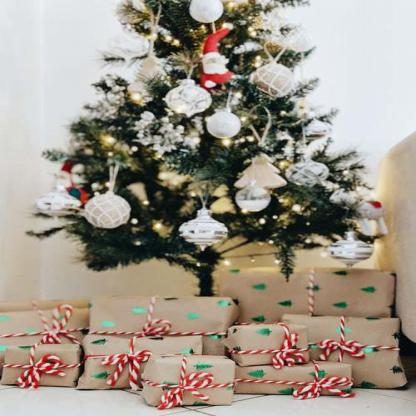present: (234, 261, 415, 329), (288, 301, 407, 387), (92, 283, 230, 335), (140, 359, 246, 414), (232, 356, 363, 399), (88, 330, 204, 378), (1, 307, 90, 356), (246, 320, 331, 363), (18, 346, 96, 389)
x_mas tree: (66, 7, 404, 283)
